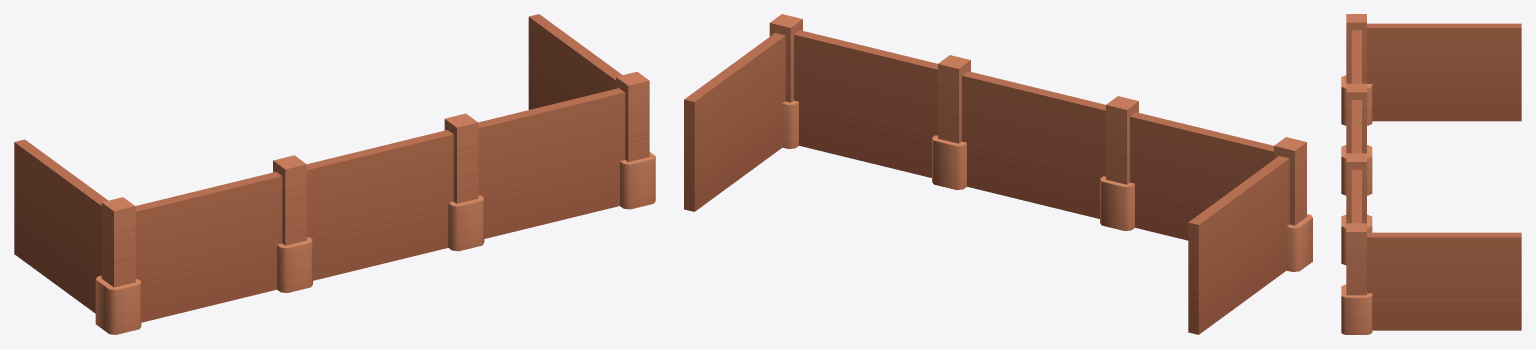
The model's file is fence-1x3.glb.
3 views of the same model, side by side, from view 1: azimuth 30°, elevation 25°; view 2: azimuth 150°, elevation 25°; view 3: azimuth 270°, elevation 25° (orthographic). The views are drawn at different scales.
Parts seen in each view (by area): view 1: fence-1x3; view 2: fence-1x3; view 3: fence-1x3.
Boxes of the visible parts, x1,y1,x2,y2 form: fence-1x3: [14, 14, 655, 334]; fence-1x3: [684, 14, 1312, 334]; fence-1x3: [1341, 14, 1521, 334].
Size of the model in its own units: 1.28 by 0.27 by 0.4375.
Materials: 1 (1 with a texture image).
